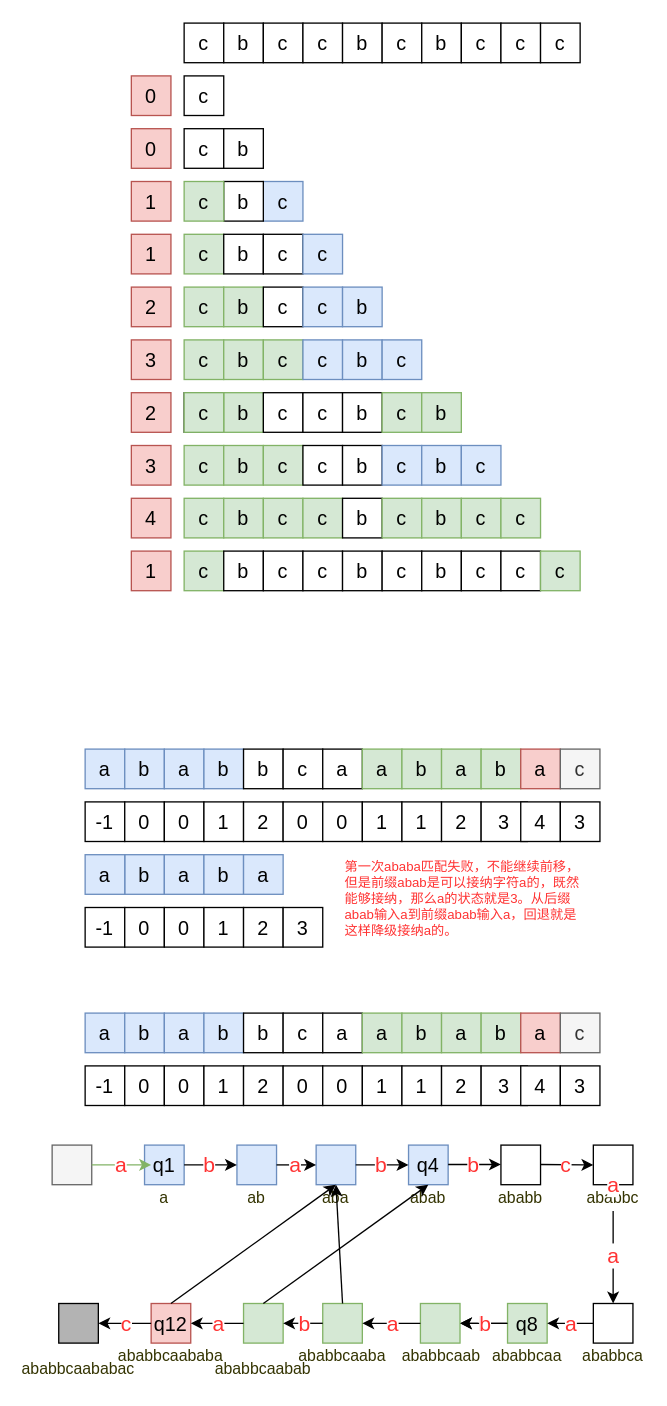
This 667x1406 diagram has some shape labels left out. Each missing label, with the centre of its shape:
"q0" belongs at (71,1164).
"q10" belongs at (341,1322).
"q11" belongs at (262,1322).
"q13" belongs at (77,1322).
"q2" belongs at (256,1164).
"q3" belongs at (335,1164).
"q5" belongs at (520,1164).
"q6" belongs at (612,1164).
"q7" belongs at (612,1322).
"q9" belongs at (439,1322).
